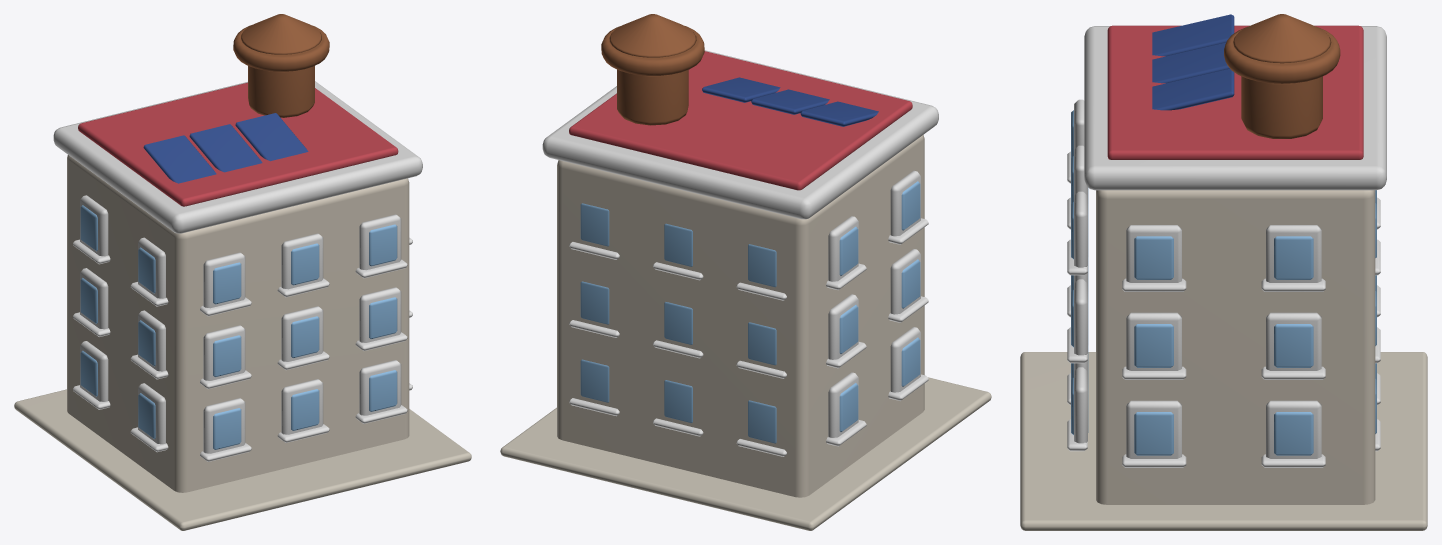
3 renders of one model, left to right at view 1: azimuth 30°, elevation 25°; view 2: azimuth 150°, elevation 25°; view 3: azimuth 270°, elevation 25°, orthographic. The views are drawn at different scales.
Parts seen in each view (by area): view 1: Cube; view 2: Cube; view 3: Cube.
Boxes of the visible parts, x1=… form: Cube: x1=14, y1=14, x2=471, y2=530; Cube: x1=500, y1=14, x2=991, y2=530; Cube: x1=1020, y1=14, x2=1427, y2=530.
Size of the model in its own units: 0.7 by 0.885 by 0.7.
